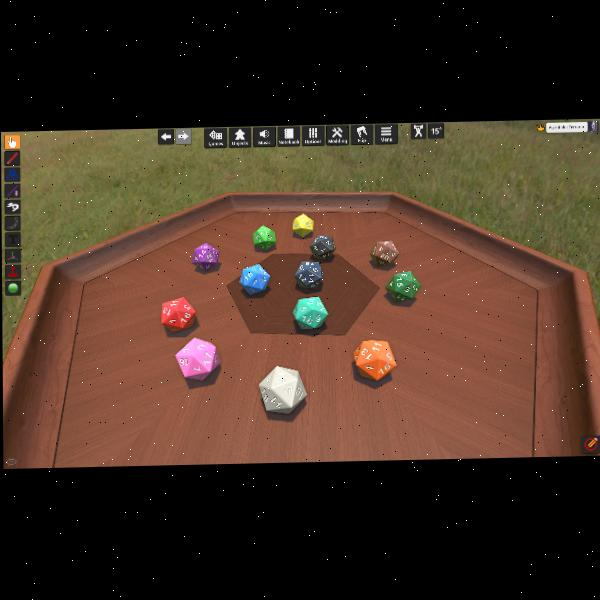d20: (259, 364, 307, 414), (175, 337, 220, 380), (355, 339, 398, 381), (162, 296, 196, 332), (293, 296, 328, 329), (384, 270, 416, 302), (238, 263, 270, 294), (294, 259, 324, 289), (369, 240, 397, 267), (193, 242, 219, 271), (310, 235, 336, 261), (253, 225, 276, 249), (292, 214, 313, 237)
